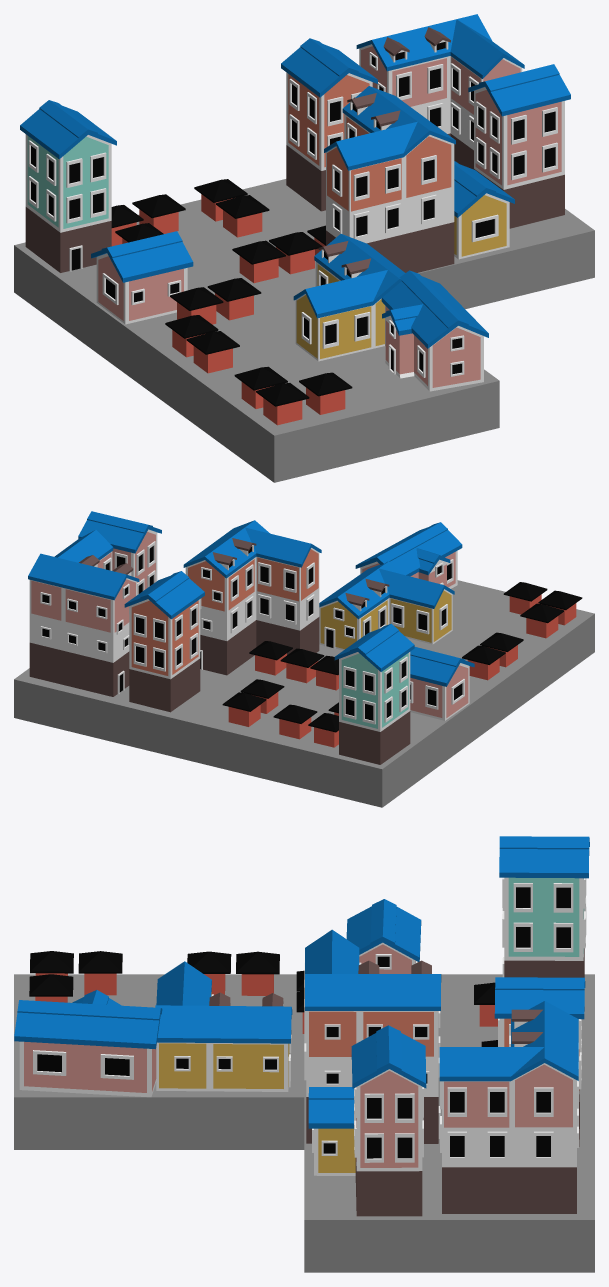
3 views of the same model, one above another, from view 1: azimuth 30°, elevation 25°; view 2: azimuth 150°, elevation 25°; view 3: azimuth 270°, elevation 25° (orthographic). The views are drawn at different scales.
Visible parts, largest first — view 1: Mesh_L_V1; view 2: Mesh_L_V1; view 3: Mesh_L_V1.
Part boxes in pixels (box(x1,y1,x2,y2)): Mesh_L_V1: box(14, 14, 594, 482); Mesh_L_V1: box(14, 511, 594, 807); Mesh_L_V1: box(14, 836, 594, 1272).
Bounding box in the file's own units: 201 × 79.35 × 200.
